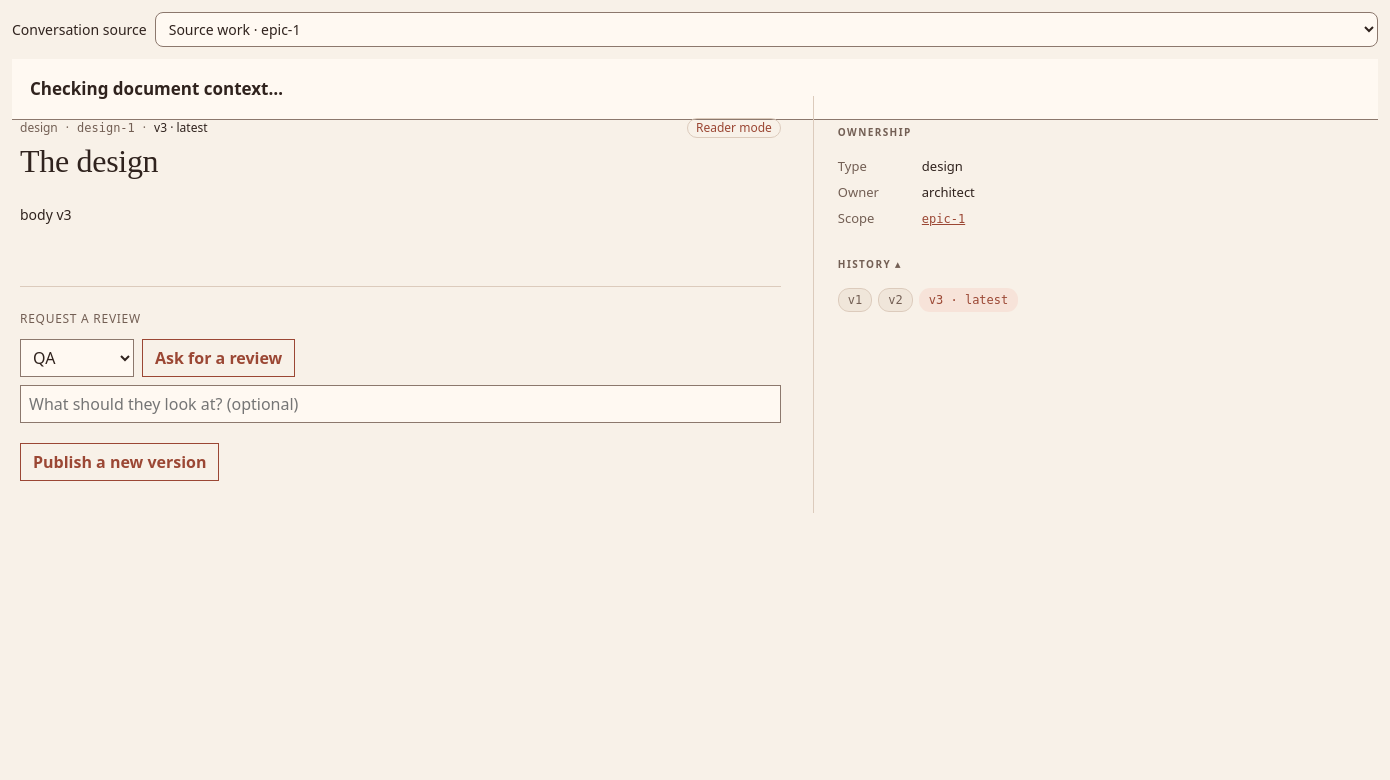
Test case: DocView side pane (Astra #36 item 2) › history details lists every version with the latest marked and switches on click
Click the button with test id "version-pill" showing "v1": (855, 300) x1=838 y1=288 x2=872 y2=312
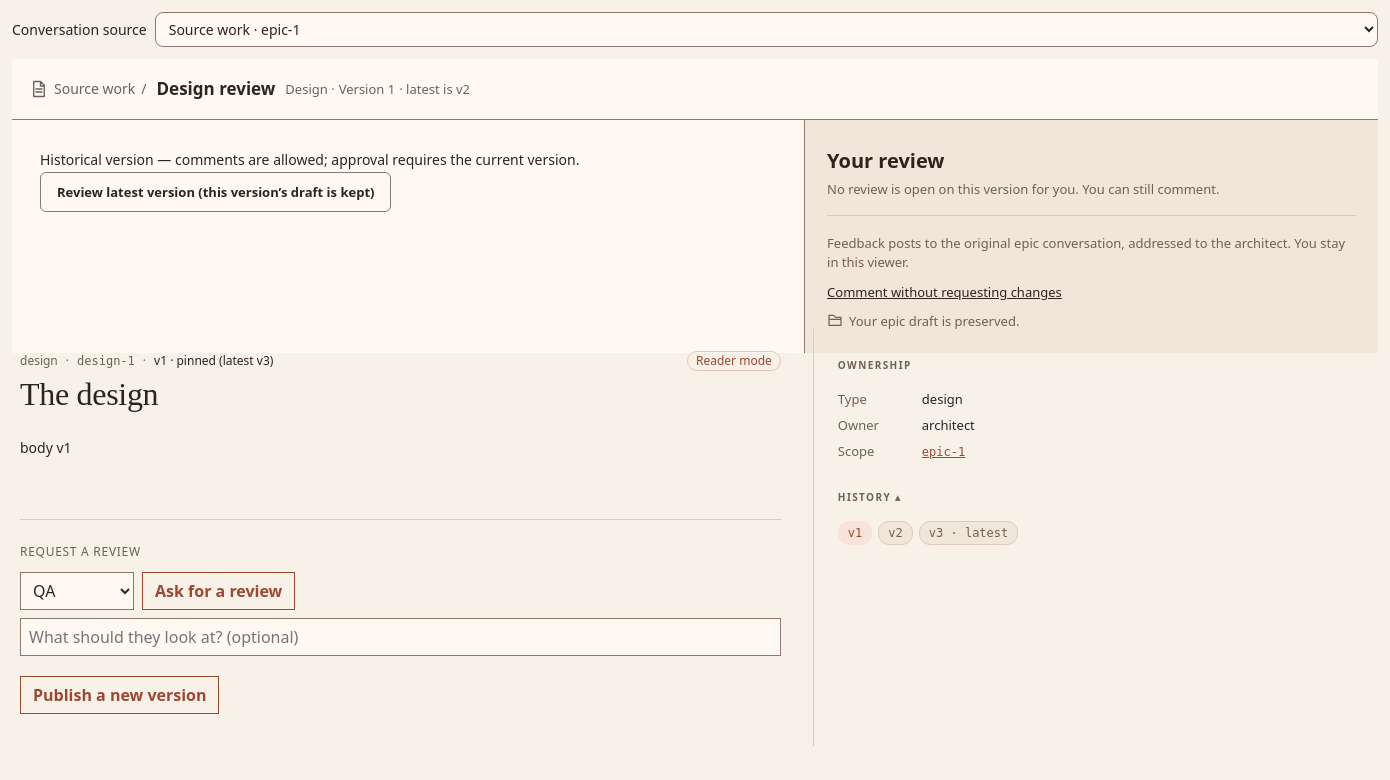
expect the text "body v1" is shown: met, box x1=20 y1=438 x2=72 y2=457
expect the text with test id "version-now" reads "v1 · pinned (latest v3)": met, box x1=154 y1=355 x2=273 y2=367
